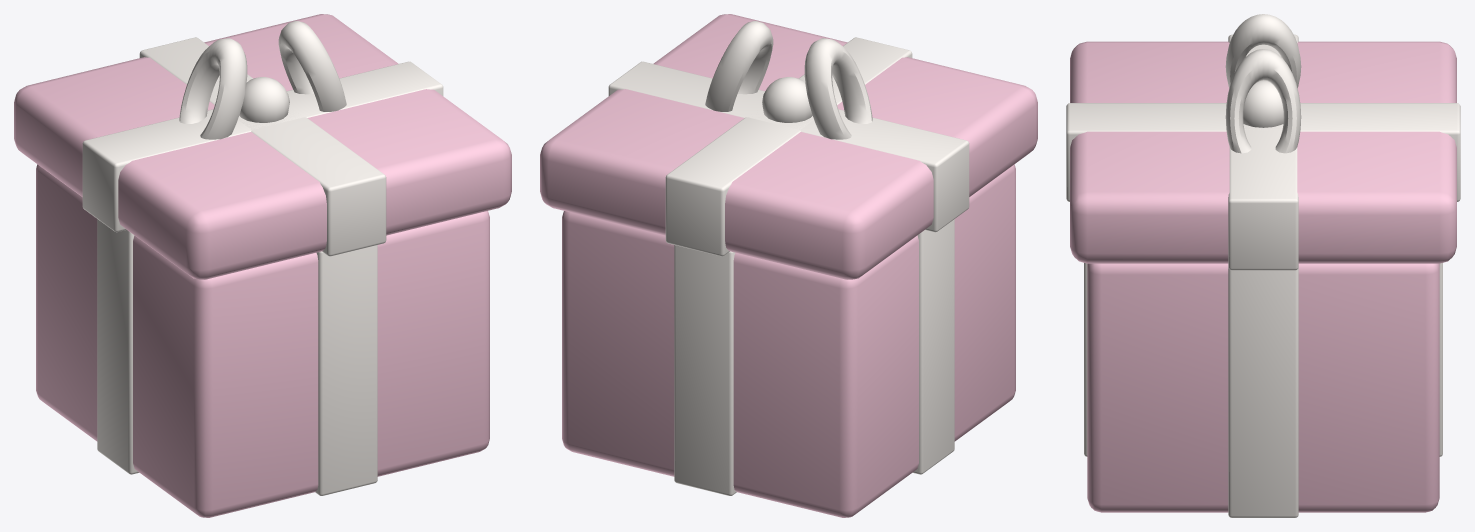
File: gift.glb
3 views of the same model, side by side, from view 1: azimuth 30°, elevation 25°; view 2: azimuth 150°, elevation 25°; view 3: azimuth 270°, elevation 25° (orthographic). The views are drawn at different scales.
Parts seen in each view (by area): view 1: Body, Lid; view 2: Body, Lid; view 3: Body, Lid.
Part boxes in pixels (box(x1,y1,x2,y2)): Body: box(36, 164, 489, 517); Lid: box(14, 14, 511, 279); Body: box(562, 164, 1015, 517); Lid: box(540, 14, 1037, 279); Body: box(1084, 263, 1442, 517); Lid: box(1066, 14, 1460, 270).
Size of the model in its own units: 1.12 by 1.29 by 1.12.
